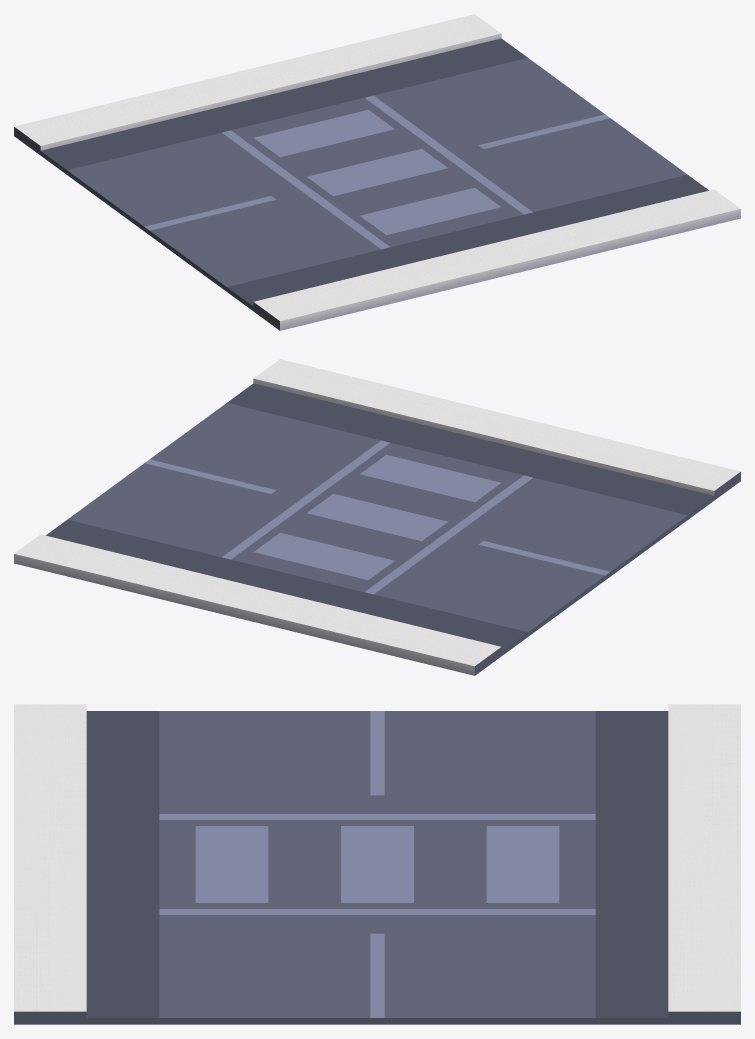
File: road_crossing.glb
3 views of the same model, one above another, from view 1: azimuth 30°, elevation 25°; view 2: azimuth 150°, elevation 25°; view 3: azimuth 270°, elevation 25° (orthographic). The views are drawn at different scales.
Visible parts, largest first — view 1: road-crossing; view 2: road-crossing; view 3: road-crossing.
Boxes of the visible parts, <box> form: road-crossing: <box>14,14,740,330</box>; road-crossing: <box>14,359,740,675</box>; road-crossing: <box>14,704,740,1024</box>.
Size of the model in its own units: 1 by 0.02 by 1.
Materials: 1 (1 with a texture image).
